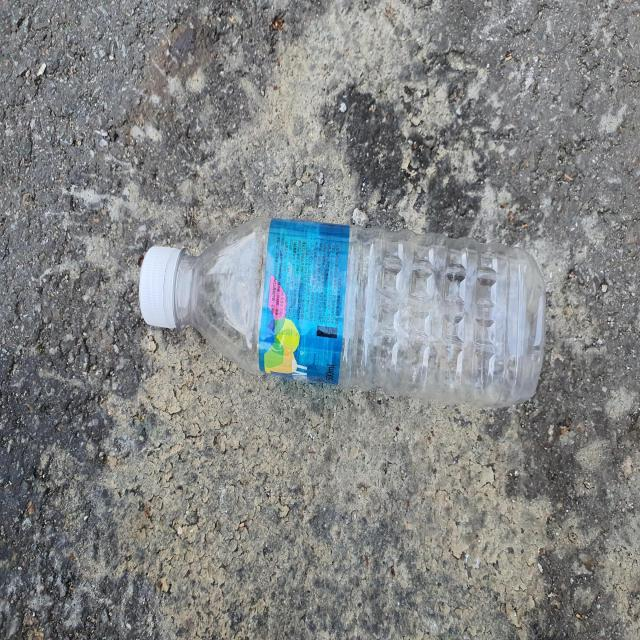plastic: (139, 217, 547, 407)
